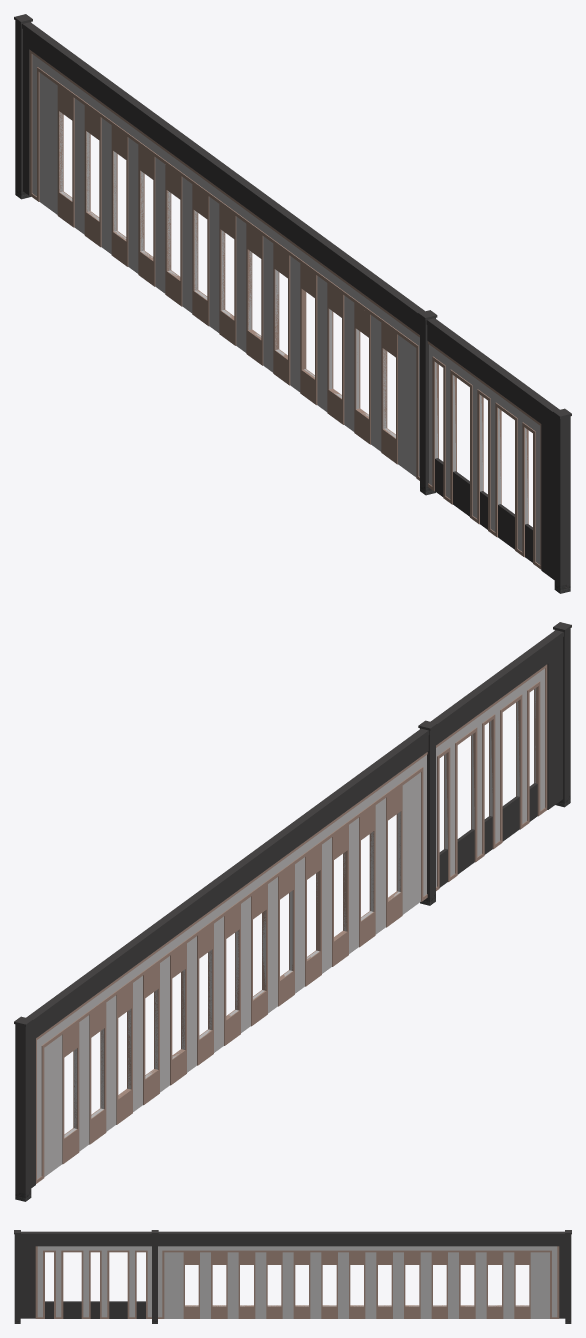
File: gym_wall.glb
3 views of the same model, one above another, from view 1: azimuth 30°, elevation 25°; view 2: azimuth 150°, elevation 25°; view 3: azimuth 270°, elevation 25° (orthographic). The views are drawn at different scales.
Parts seen in each view (by area): view 1: swimming pool.018, swimming pool.020, swimming pool.021, swimming pool.017, swimming pool.019, swimming pool.028, swimming pool.003, swimming pool.029; view 2: swimming pool.018, swimming pool.020, swimming pool.021, swimming pool.017, swimming pool.019, swimming pool.028, swimming pool.003, swimming pool.029; view 3: swimming pool.018, swimming pool.028, swimming pool.020, swimming pool.017, swimming pool.019, swimming pool.003, swimming pool.021, swimming pool.029.
Part boxes in pixels (bbox=[...]): swimming pool.018: bbox=[39, 73, 416, 477]; swimming pool.020: bbox=[57, 86, 397, 464]; swimming pool.021: bbox=[23, 29, 554, 579]; swimming pool.017: bbox=[32, 54, 540, 564]; swimming pool.019: bbox=[29, 50, 541, 569]; swimming pool.028: bbox=[22, 22, 559, 417]; swimming pool.003: bbox=[14, 14, 571, 593]; swimming pool.029: bbox=[435, 458, 532, 562]; swimming pool.018: bbox=[44, 772, 420, 1176]; swimming pool.020: bbox=[62, 786, 402, 1164]; swimming pool.021: bbox=[31, 637, 562, 1187]; swimming pool.017: bbox=[37, 668, 544, 1179]; swimming pool.019: bbox=[36, 664, 547, 1183]; swimming pool.028: bbox=[26, 630, 563, 1025]; swimming pool.003: bbox=[14, 622, 571, 1201]; swimming pool.029: bbox=[439, 783, 537, 887]; swimming pool.018: bbox=[164, 1252, 549, 1318]; swimming pool.028: bbox=[20, 1231, 565, 1246]; swimming pool.020: bbox=[183, 1252, 530, 1318]; swimming pool.017: bbox=[37, 1246, 557, 1317]; swimming pool.019: bbox=[35, 1246, 559, 1318]; swimming pool.003: bbox=[14, 1230, 571, 1323]; swimming pool.021: bbox=[20, 1246, 565, 1318]; swimming pool.029: bbox=[45, 1301, 145, 1318].
Bounding box in the file's own units: 0.7714 × 10.93 × 60.75.
4 materials, 1 textured.
